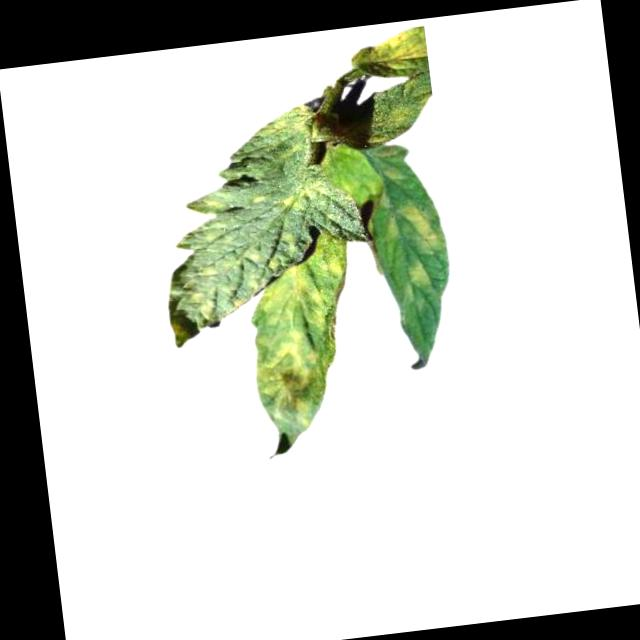Leaf_Mold: (240, 232, 368, 440), (351, 24, 429, 82), (249, 101, 317, 162), (280, 176, 331, 218), (399, 206, 439, 253), (401, 260, 430, 292)
